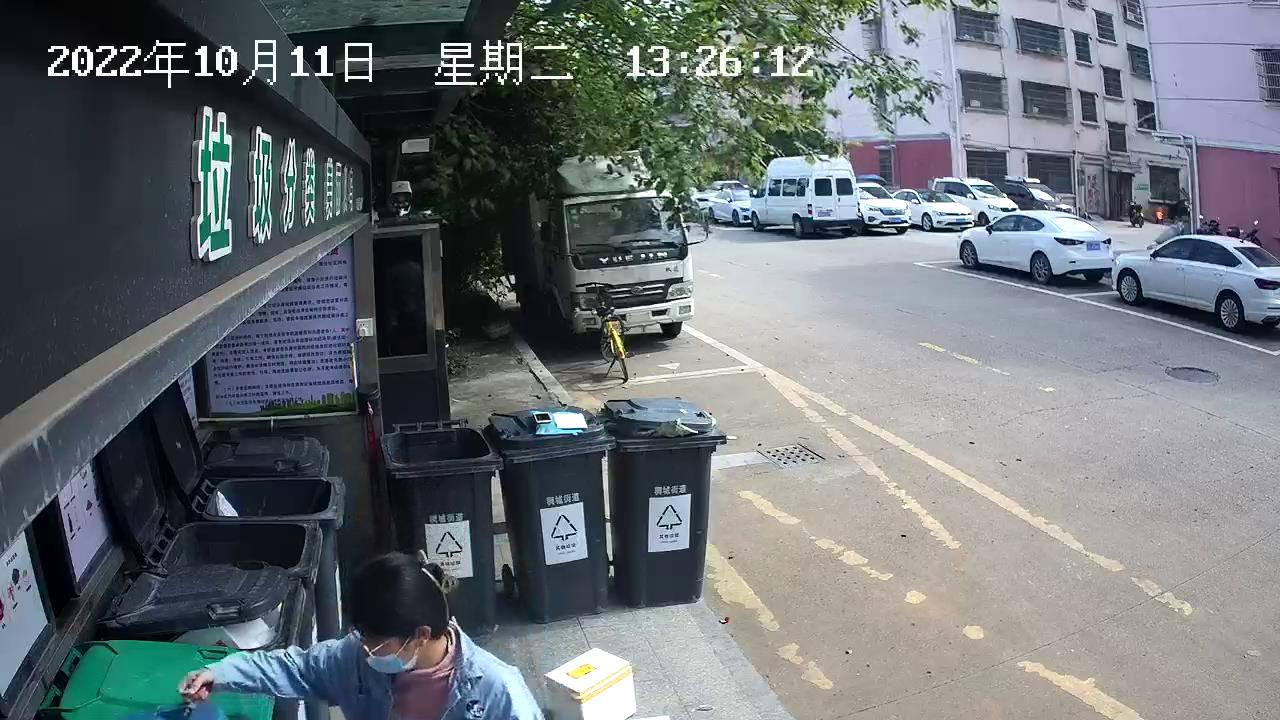worker: (172, 546, 544, 720)
zhizhipin: (539, 644, 643, 720)
